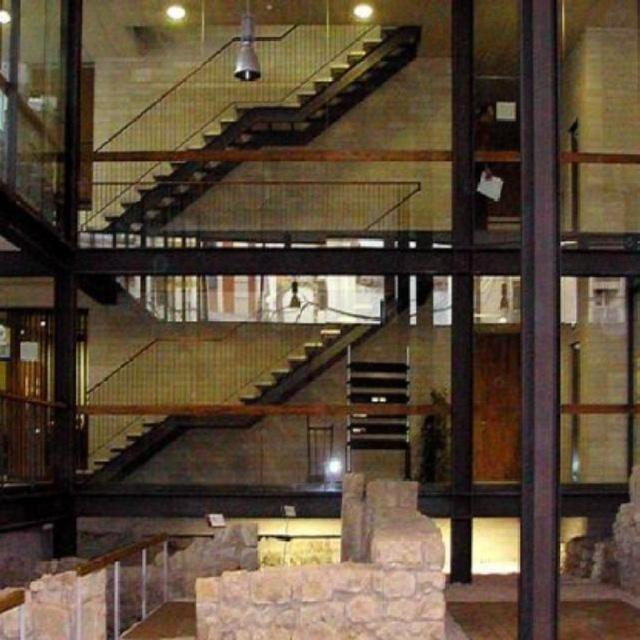stair: (72, 283, 410, 489), (90, 27, 416, 235)
